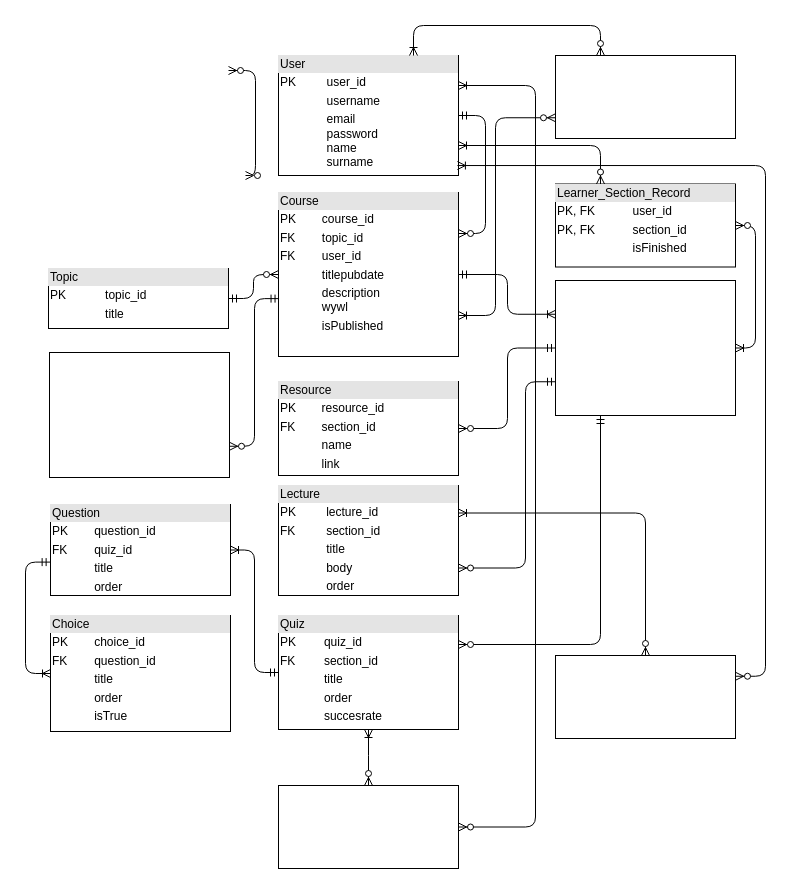
The diagram is 792 pixels wide and 886 high, and some of its shapes have lost their labels. Each missing label, with the box of its shape:
Glossary PK glossary_id FK course_id name description image_url url: (48, 352, 230, 478)
Learner_Course_Record PK, FK user_id PK, FK course_id isFinished: (554, 54, 736, 138)
Learner_Lecture_Record PK, FK user_id PK, FK lecture_id isFinished: (554, 654, 736, 738)
Learner_Quiz_Record PK, FK user_id PK, FK quiz_id isFinished: (278, 784, 458, 868)
Section PK section_id FK course_id section_name order description isLinked: (554, 280, 736, 416)
